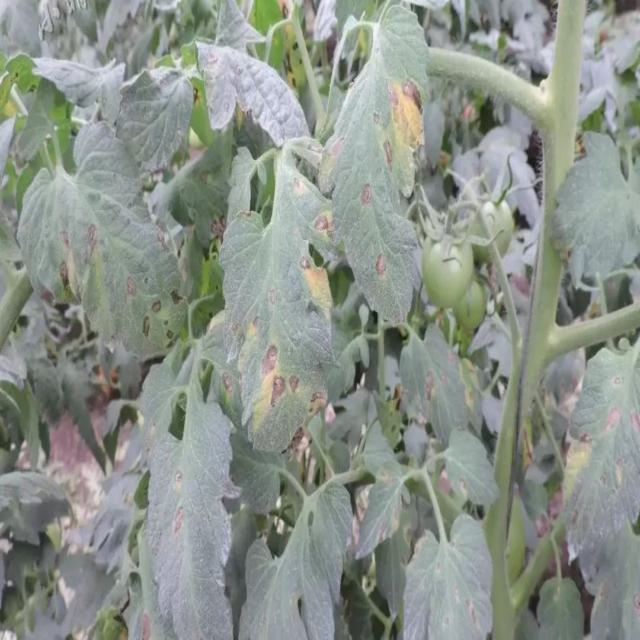Early_blight: (258, 342, 299, 409), (389, 78, 425, 147), (297, 254, 333, 307), (205, 212, 229, 244), (313, 207, 335, 237), (170, 503, 188, 534), (424, 370, 438, 403), (359, 181, 375, 207), (374, 249, 386, 278)
